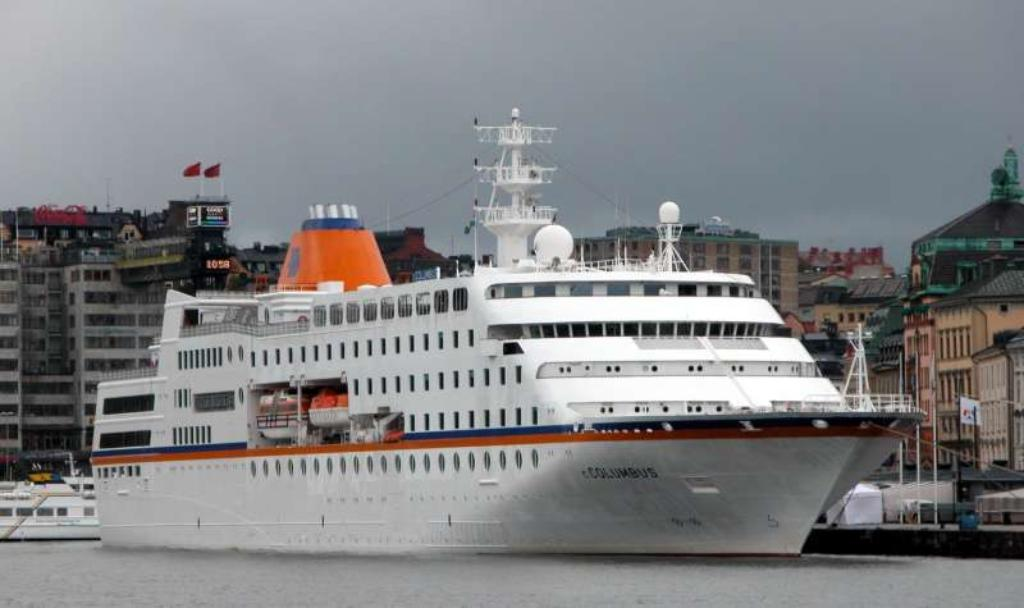PassengerShip: (76, 95, 932, 569), (0, 468, 110, 548)
